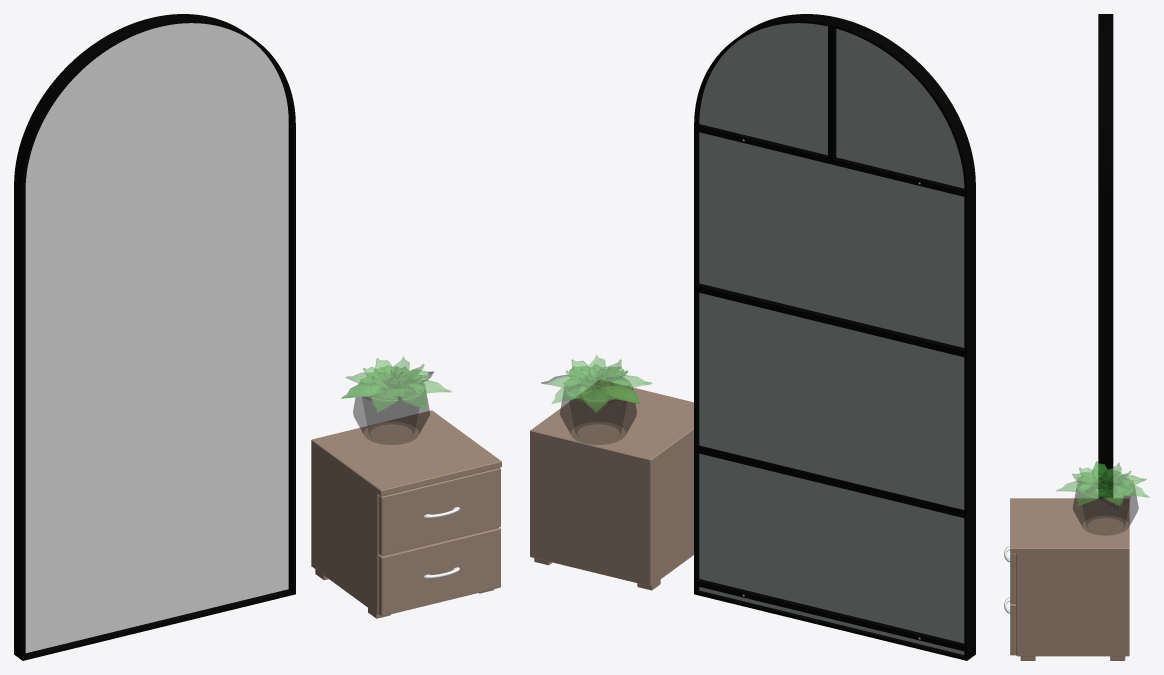
The model's file is BGravf100x190.glb.
3 views of the same model, side by side, from view 1: azimuth 30°, elevation 25°; view 2: azimuth 150°, elevation 25°; view 3: azimuth 270°, elevation 25° (orthographic). The views are drawn at different scales.
Visible parts, largest first — view 1: mirror_80x180.001, Nightstand.001, uploads_files_2863906_Succulent+Plant.001; view 2: mirror_80x180.001, Nightstand.001, uploads_files_2863906_Succulent+Plant.001; view 3: Nightstand.001, mirror_80x180.001, uploads_files_2863906_Succulent+Plant.001.
Part boxes in pixels (<box>): mirror_80x180.001: <box>14,14,295,660</box>; Nightstand.001: <box>311,410,501,618</box>; uploads_files_2863906_Succulent+Plant.001: <box>341,356,451,444</box>; mirror_80x180.001: <box>694,14,975,660</box>; Nightstand.001: <box>530,380,693,590</box>; uploads_files_2863906_Succulent+Plant.001: <box>541,355,652,444</box>; Nightstand.001: <box>1004,498,1129,660</box>; mirror_80x180.001: <box>1098,14,1113,497</box>; uploads_files_2863906_Succulent+Plant.001: <box>1056,461,1149,535</box>.
Bounding box in the file's own units: 1.41 × 1.9 × 0.4889.
